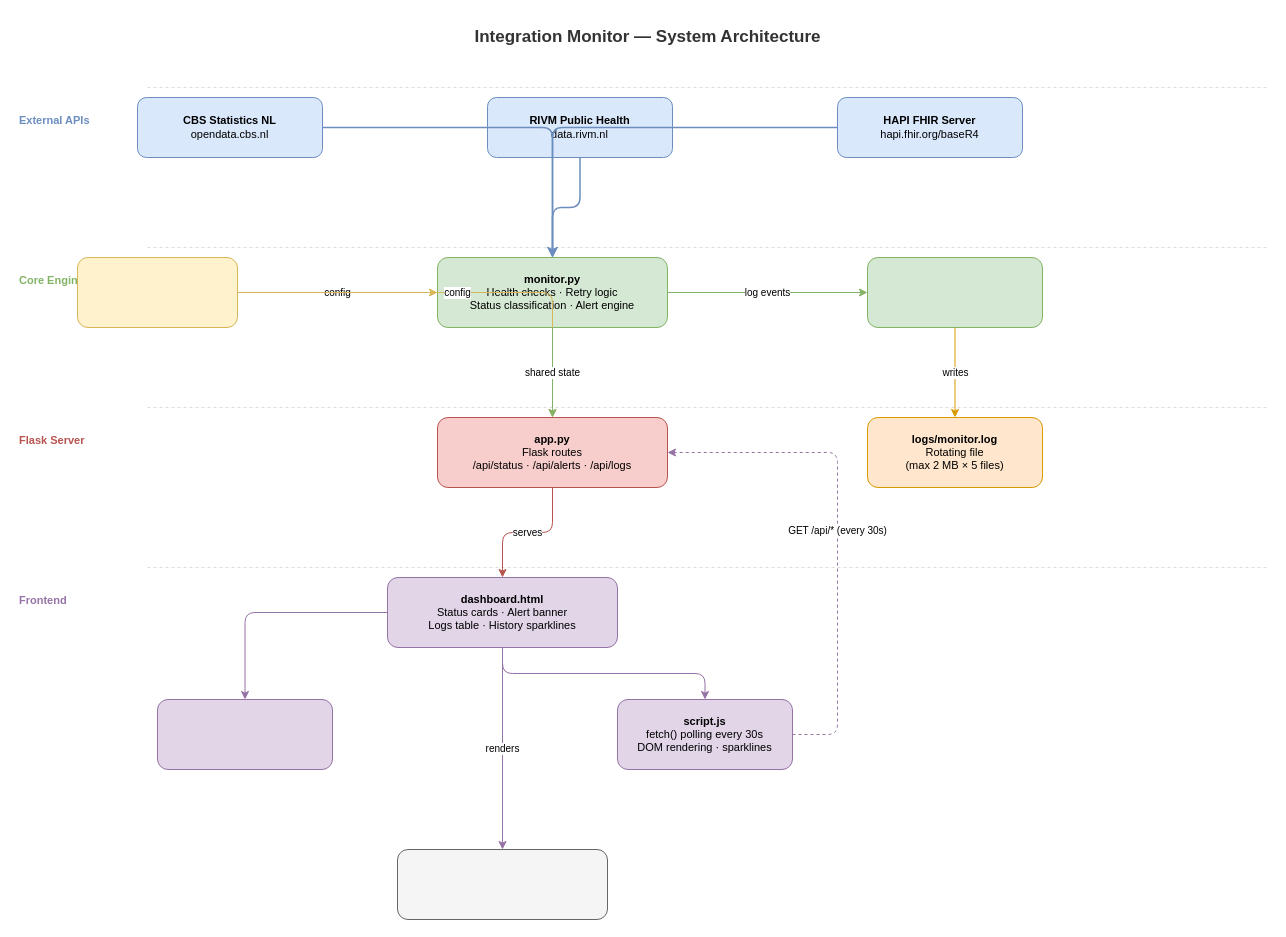
Some shapes in this 1286 by 937 pixel diagram are drawn without their labels. Here are the shapes that lost their labels. From the top down, the centre of each, then its label:
At point (157, 292): "config.py API list · thresholds intervals · retry count".
At point (954, 292): "logger.py Rotating file log In-memory ring buffer".
At point (244, 734): "style.css Dark theme Color-coded (green/yellow/red)".
At point (502, 884): "Client Browser Dashboard UI Desktop / Mobile".
